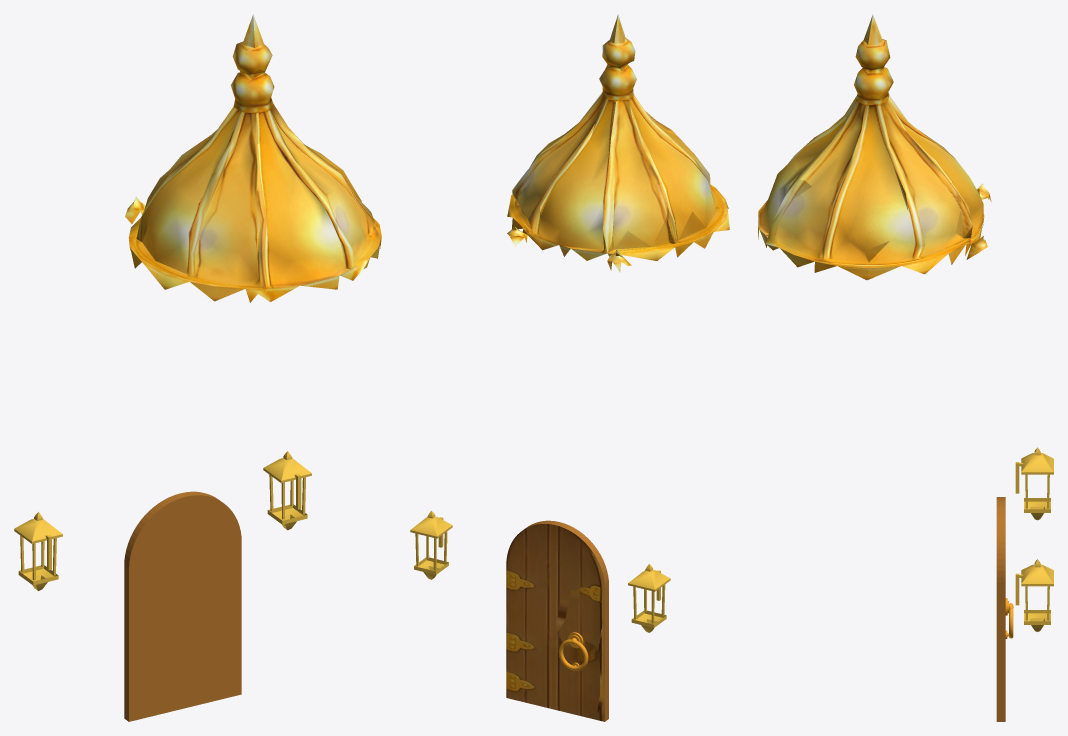
File: HaloDomeHouse_10_deco.glb
3 views of the same model, side by side, from view 1: azimuth 30°, elevation 25°; view 2: azimuth 150°, elevation 25°; view 3: azimuth 270°, elevation 25° (orthographic). The views are drawn at different scales.
Visible parts, largest first — view 1: HaloDomeHouse_10_Dome, HaloDomeHouse_10_Leaf, HaloDomeHouse_10_Lantern0, HaloDomeHouse_10_Lantern1; view 2: HaloDomeHouse_10_Dome, HaloDomeHouse_10_Leaf, HaloDomeHouse_10_Lantern1, HaloDomeHouse_10_Lantern0, Orn_HaloDomeHouse_10_Knocker; view 3: HaloDomeHouse_10_Dome, HaloDomeHouse_10_Leaf, HaloDomeHouse_10_Lantern0, HaloDomeHouse_10_Lantern1.
Part boxes in pixels (x1=…): HaloDomeHouse_10_Dome: x1=125, y1=14, x2=381, y2=302; HaloDomeHouse_10_Leaf: x1=124, y1=491, x2=241, y2=721; HaloDomeHouse_10_Lantern0: x1=263, y1=451, x2=311, y2=530; HaloDomeHouse_10_Lantern1: x1=14, y1=512, x2=62, y2=590; HaloDomeHouse_10_Dome: x1=507, y1=14, x2=729, y2=272; HaloDomeHouse_10_Leaf: x1=506, y1=520, x2=608, y2=721; HaloDomeHouse_10_Lantern1: x1=628, y1=564, x2=670, y2=632; HaloDomeHouse_10_Lantern0: x1=410, y1=511, x2=452, y2=579; Orn_HaloDomeHouse_10_Knocker: x1=559, y1=632, x2=588, y2=670; HaloDomeHouse_10_Dome: x1=758, y1=14, x2=991, y2=280; HaloDomeHouse_10_Leaf: x1=996, y1=497, x2=1005, y2=721; HaloDomeHouse_10_Lantern0: x1=1015, y1=559, x2=1053, y2=631; HaloDomeHouse_10_Lantern1: x1=1015, y1=447, x2=1053, y2=520.
Size of the model in its own units: 10.68 by 27.08 by 10.63.
Materials: 4 (2 with a texture image).
